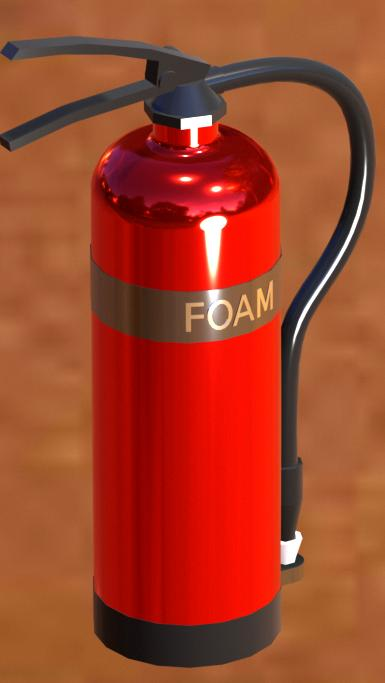fire_extinguisher: (0, 1, 385, 683)
